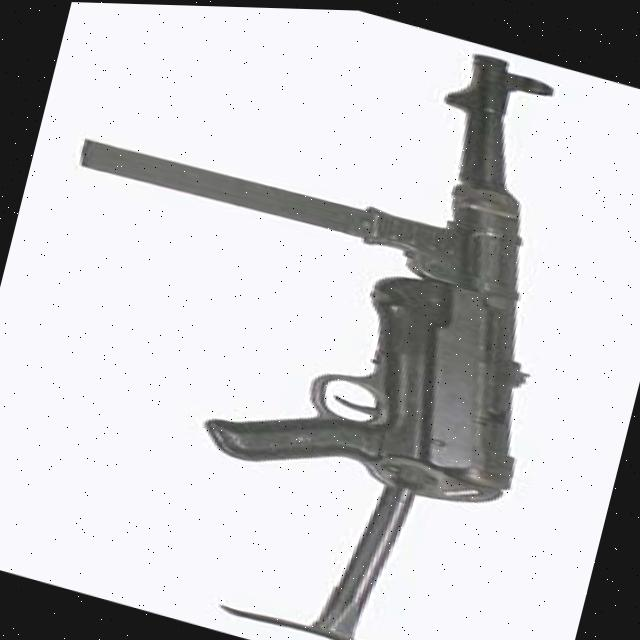firearm: (0, 0, 619, 640)
